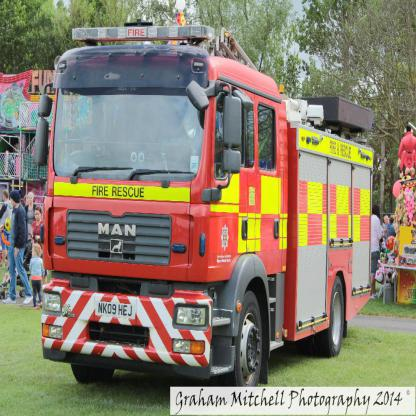Truck: (35, 28, 379, 393)
